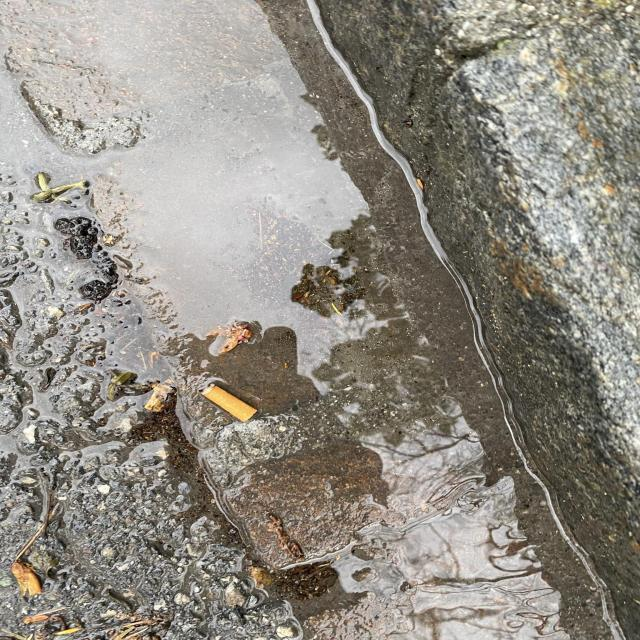other waste: (199, 383, 258, 422)
